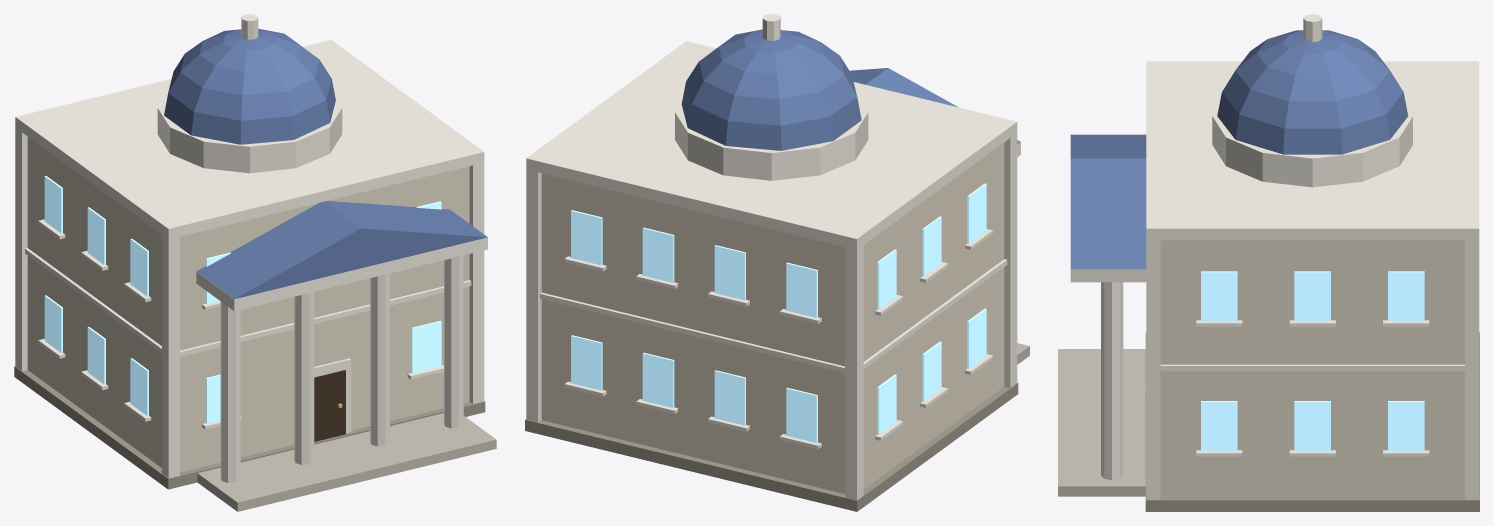
The model's file is biblioteca-municipal.glb.
3 renders of one model, left to right at view 1: azimuth 30°, elevation 25°; view 2: azimuth 150°, elevation 25°; view 3: azimuth 270°, elevation 25°, orthographic. The views are drawn at different scales.
Parts seen in each view (by area): view 1: biblioteca-municipal_2, biblioteca-municipal_1, biblioteca-municipal_7, biblioteca-municipal_6, biblioteca-municipal_3, biblioteca-municipal_0, biblioteca-municipal_4; view 2: biblioteca-municipal_1, biblioteca-municipal_2, biblioteca-municipal_3, biblioteca-municipal_7, biblioteca-municipal_0; view 3: biblioteca-municipal_1, biblioteca-municipal_2, biblioteca-municipal_7, biblioteca-municipal_3, biblioteca-municipal_6, biblioteca-municipal_0.
Part boxes in pixels (x1=…): biblioteca-municipal_2: x1=15, y1=14, x2=487, y2=482; biblioteca-municipal_1: x1=27, y1=137, x2=469, y2=472; biblioteca-municipal_7: x1=164, y1=28, x2=487, y2=299; biblioteca-municipal_6: x1=197, y1=413, x2=496, y2=511; biblioteca-municipal_3: x1=44, y1=176, x2=441, y2=423; biblioteca-municipal_0: x1=14, y1=366, x2=485, y2=489; biblioteca-municipal_4: x1=314, y1=370, x2=345, y2=441; biblioteca-municipal_1: x1=541, y1=142, x2=1004, y2=493; biblioteca-municipal_2: x1=526, y1=14, x2=1020, y2=500; biblioteca-municipal_3: x1=571, y1=183, x2=986, y2=442; biblioteca-municipal_7: x1=681, y1=29, x2=1020, y2=150; biblioteca-municipal_0: x1=525, y1=383, x2=1018, y2=511; biblioteca-municipal_1: x1=1160, y1=240, x2=1464, y2=496; biblioteca-municipal_2: x1=1070, y1=14, x2=1479, y2=499; biblioteca-municipal_7: x1=1070, y1=30, x2=1408, y2=269; biblioteca-municipal_3: x1=1201, y1=271, x2=1424, y2=450; biblioteca-municipal_6: x1=1058, y1=349, x2=1145, y2=496; biblioteca-municipal_0: x1=1145, y1=332, x2=1479, y2=511.
Size of the model in its own units: 12.5 by 14.2 by 13.25.
